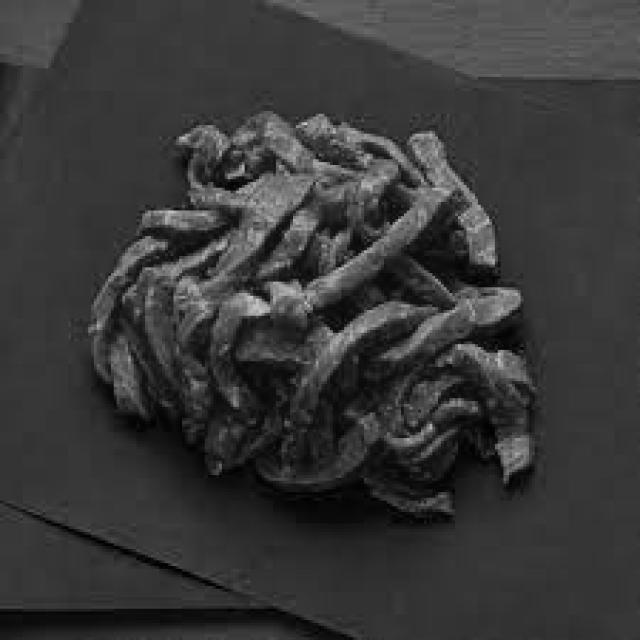meat pieces: (82, 111, 538, 520)
